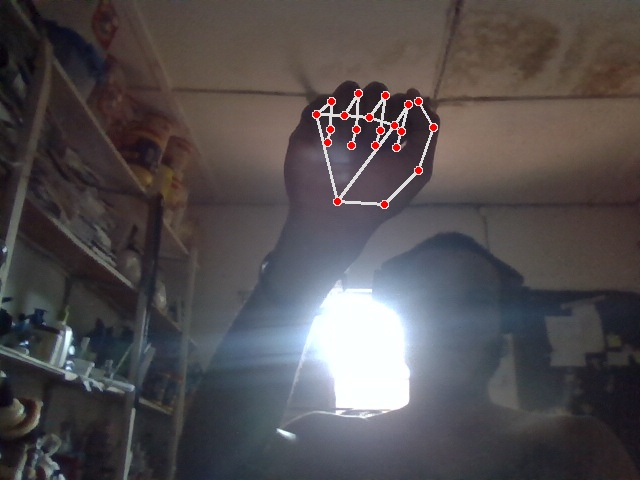number0: (283, 81, 443, 238)
